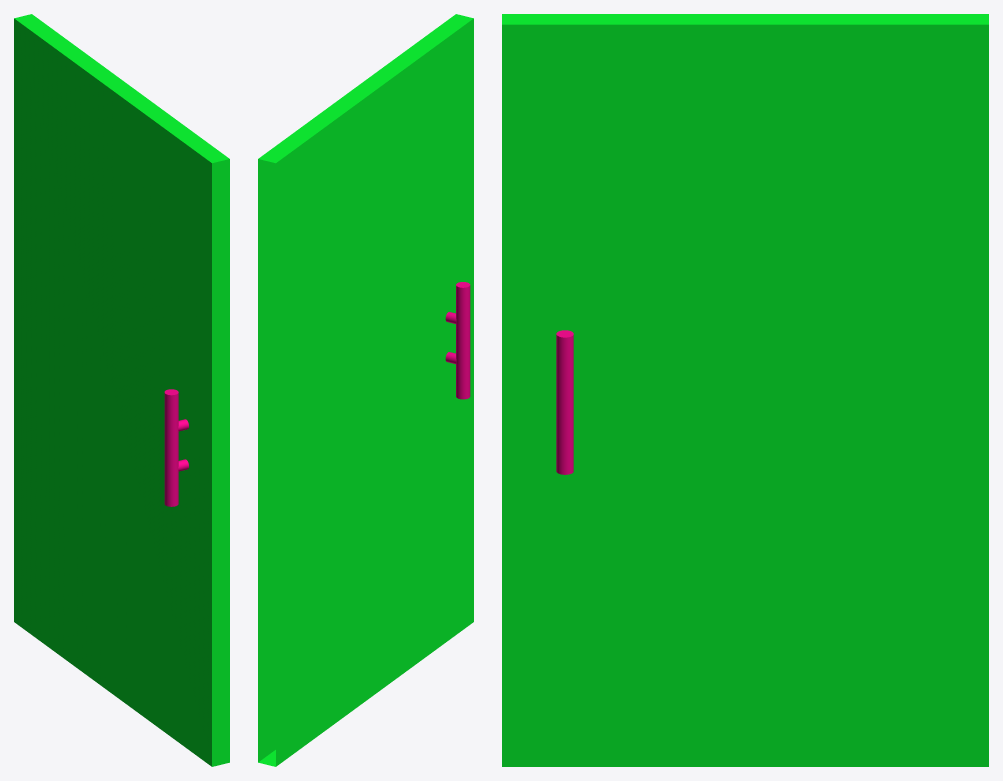
The model's file is PuertaConMango.FBX.
The picture shows the model from 3 angles, left to right: view 1: azimuth 30°, elevation 25°; view 2: azimuth 150°, elevation 25°; view 3: azimuth 270°, elevation 25°; orthographic projection. The views are drawn at different scales.
Visible parts, largest first — view 1: Door, Mango; view 2: Door, Mango; view 3: Door, Mango.
Part boxes in pixels (bbox=[...]): Door: bbox=[14, 14, 229, 766]; Mango: bbox=[164, 389, 188, 506]; Door: bbox=[258, 14, 473, 766]; Mango: bbox=[445, 282, 470, 399]; Door: bbox=[502, 14, 988, 766]; Mango: bbox=[556, 330, 573, 474].
Bounding box in the file's own units: 10.9 × 104 × 62.04.
